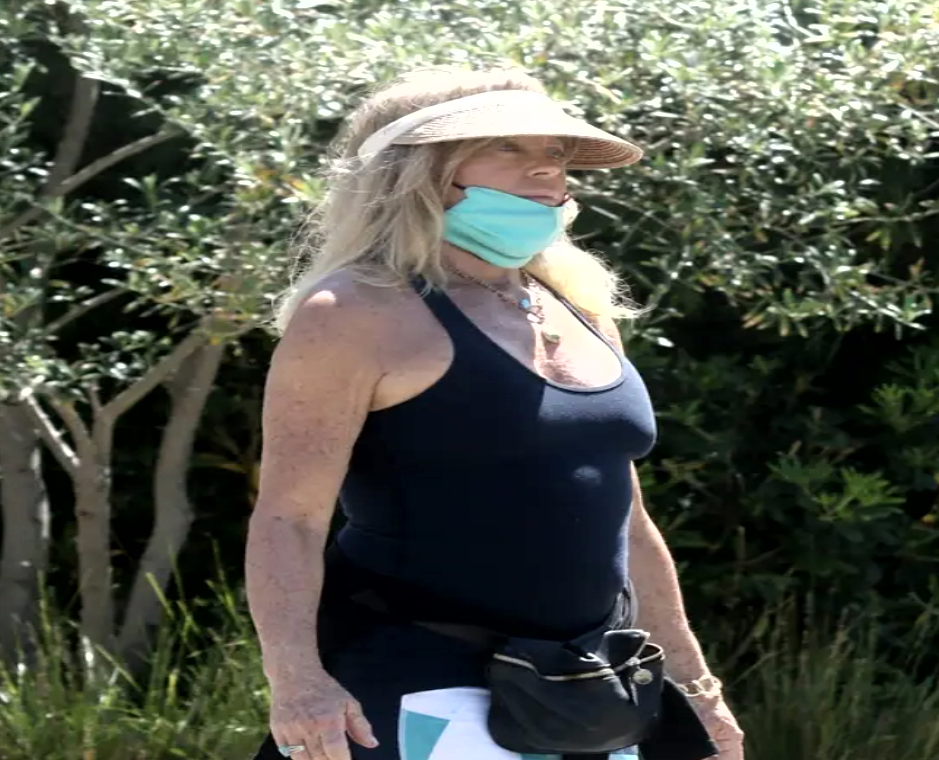mask_weared_incorrect: (341, 72, 628, 275)
